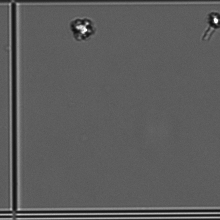Living Cell: (70, 17, 98, 45), (202, 10, 219, 33)
